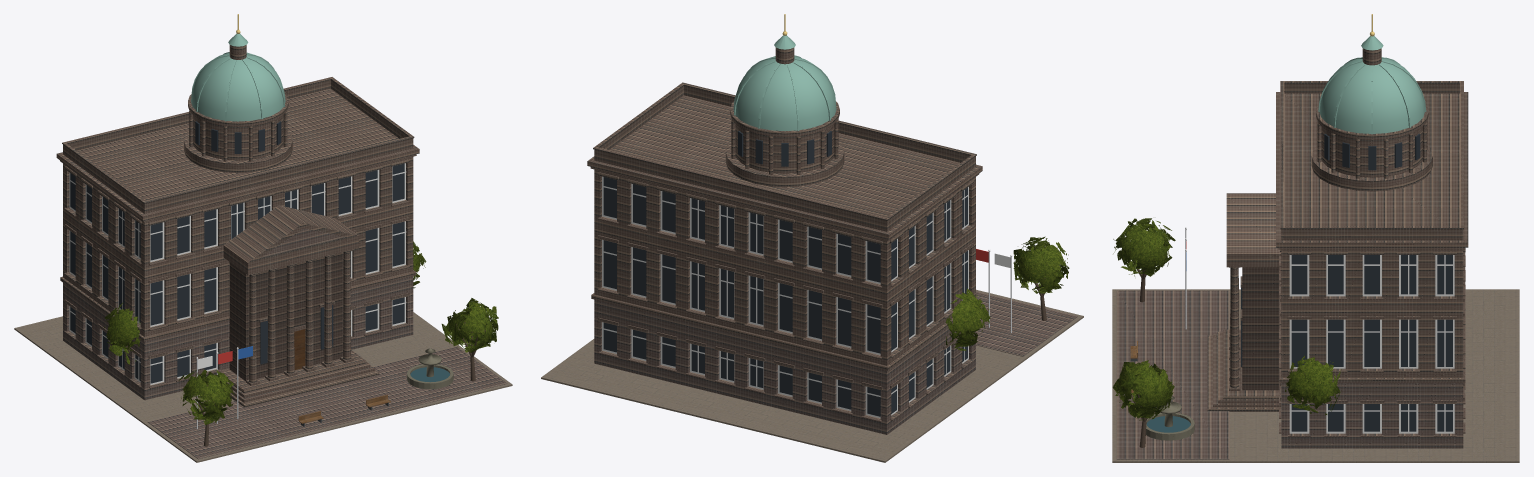
The model's file is city_hall.glb.
3 views of the same model, side by side, from view 1: azimuth 30°, elevation 25°; view 2: azimuth 150°, elevation 25°; view 3: azimuth 270°, elevation 25° (orthographic). The views are drawn at different scales.
Visible parts, largest first — view 1: city_hall_body, city_hall_foliage; view 2: city_hall_body, city_hall_foliage; view 3: city_hall_body, city_hall_foliage.
Part boxes in pixels (<box>): city_hall_body: <box>14,14,512,462</box>; city_hall_foliage: <box>104,241,498,424</box>; city_hall_body: <box>541,14,1083,462</box>; city_hall_foliage: <box>945,236,1069,350</box>; city_hall_body: <box>1112,14,1519,462</box>; city_hall_foliage: <box>1112,218,1341,420</box>.
Bounding box in the file's own units: 0.94 × 0.924 × 0.94.
23 materials, 11 textured.
